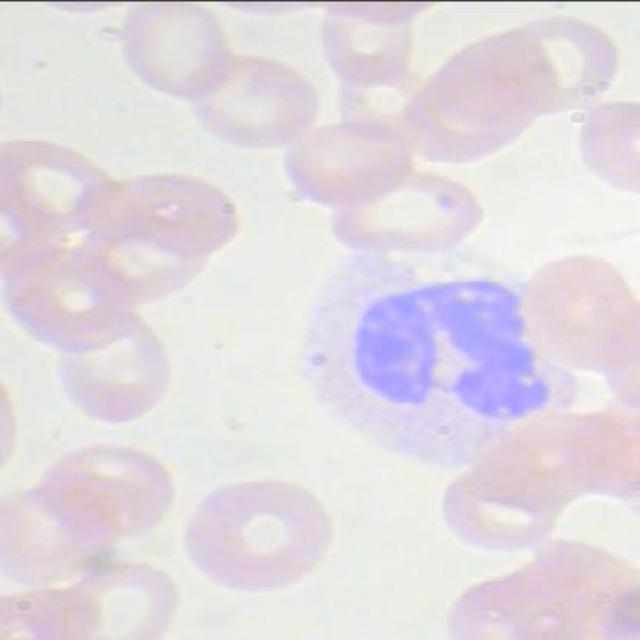RBC: (178, 459, 350, 603), (52, 297, 176, 426), (183, 53, 319, 152), (112, 2, 237, 108), (277, 112, 412, 210)
WBC: (289, 216, 600, 475)
